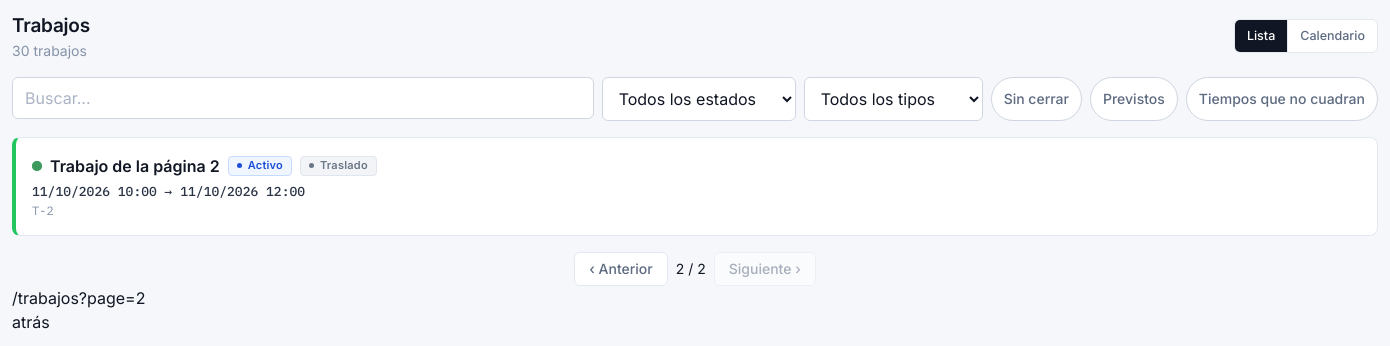
Test: TrabajoList: la lista sobrevive a abrir un trabajo › cambiar un filtro vuelve a la página 1
Expected: the text "Trabajo de la página 2" is shown, 50,154 -> 220,178
Select "Traslado" in the 2nd dropdown showing "Todos los tipos": (893, 98) 804,76 -> 983,120
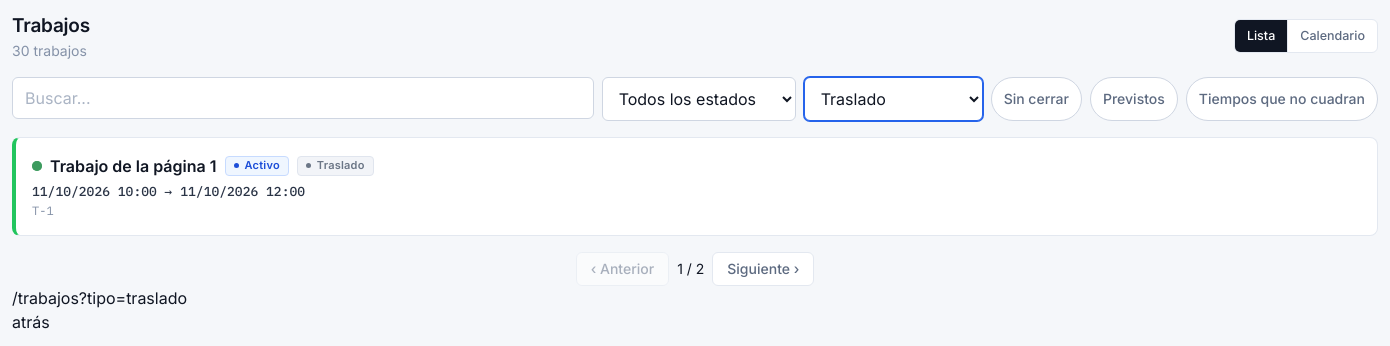
Result: the text with test id "donde" reads "/trabajos?tipo=traslado" at 12,288 -> 187,308
Result: the text "Trabajo de la página 1" is shown at 50,154 -> 216,178
